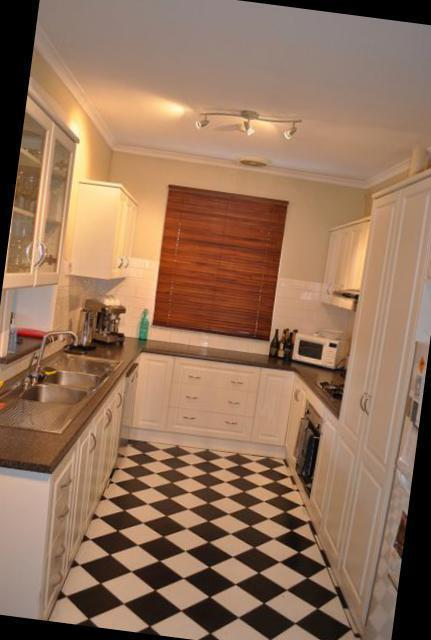Lavaplatos: (8, 317, 127, 420)
